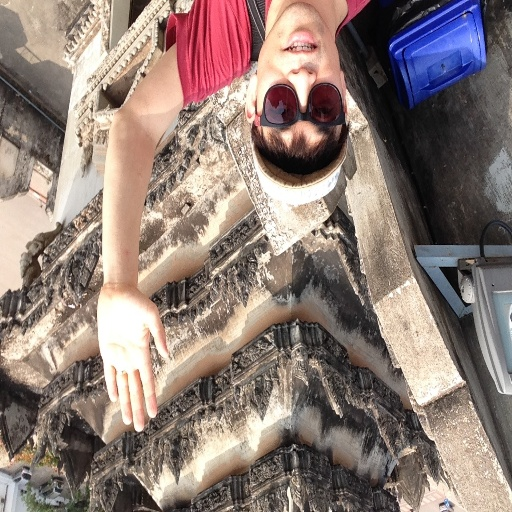hand: (96, 261, 164, 446)
